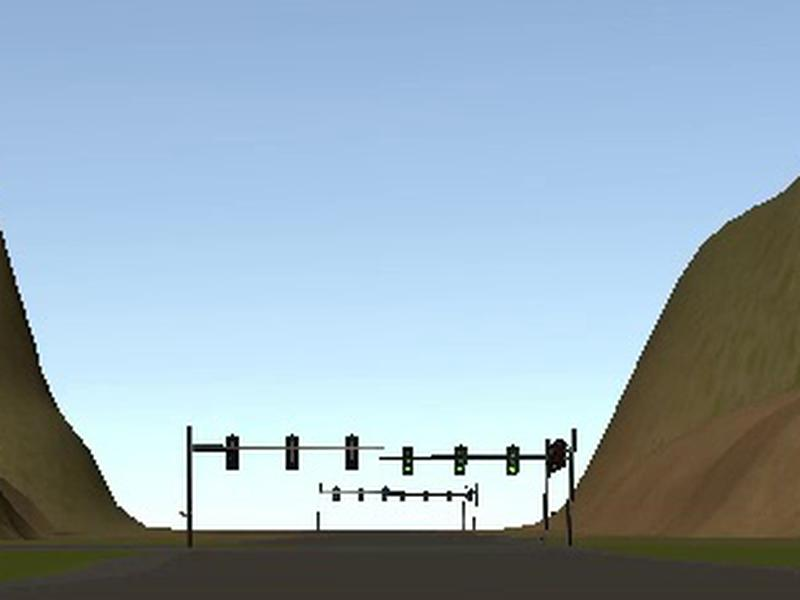Green: (454, 445, 467, 474), (402, 445, 414, 475), (507, 446, 519, 474)
